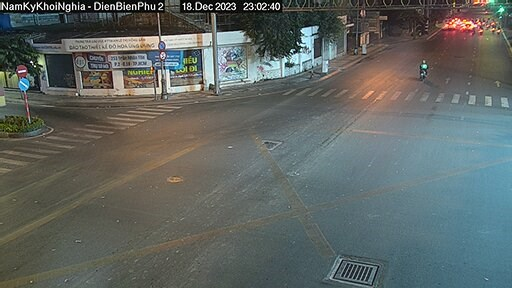motorbike: (416, 58, 431, 81)
